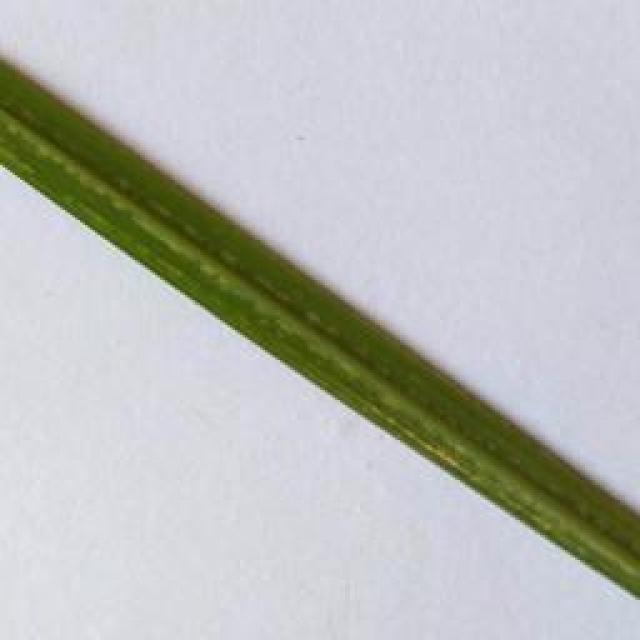Bacterial_Blight: (374, 409, 482, 487)
